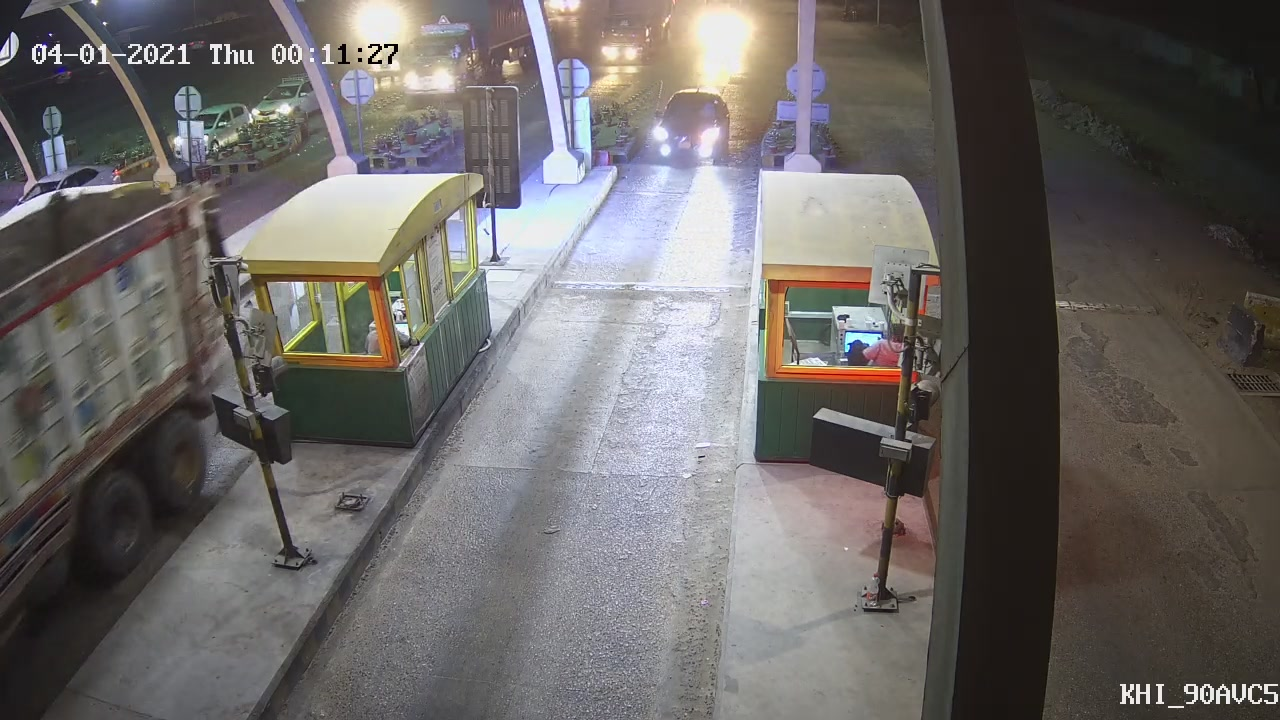F1: (633, 89, 734, 177)
